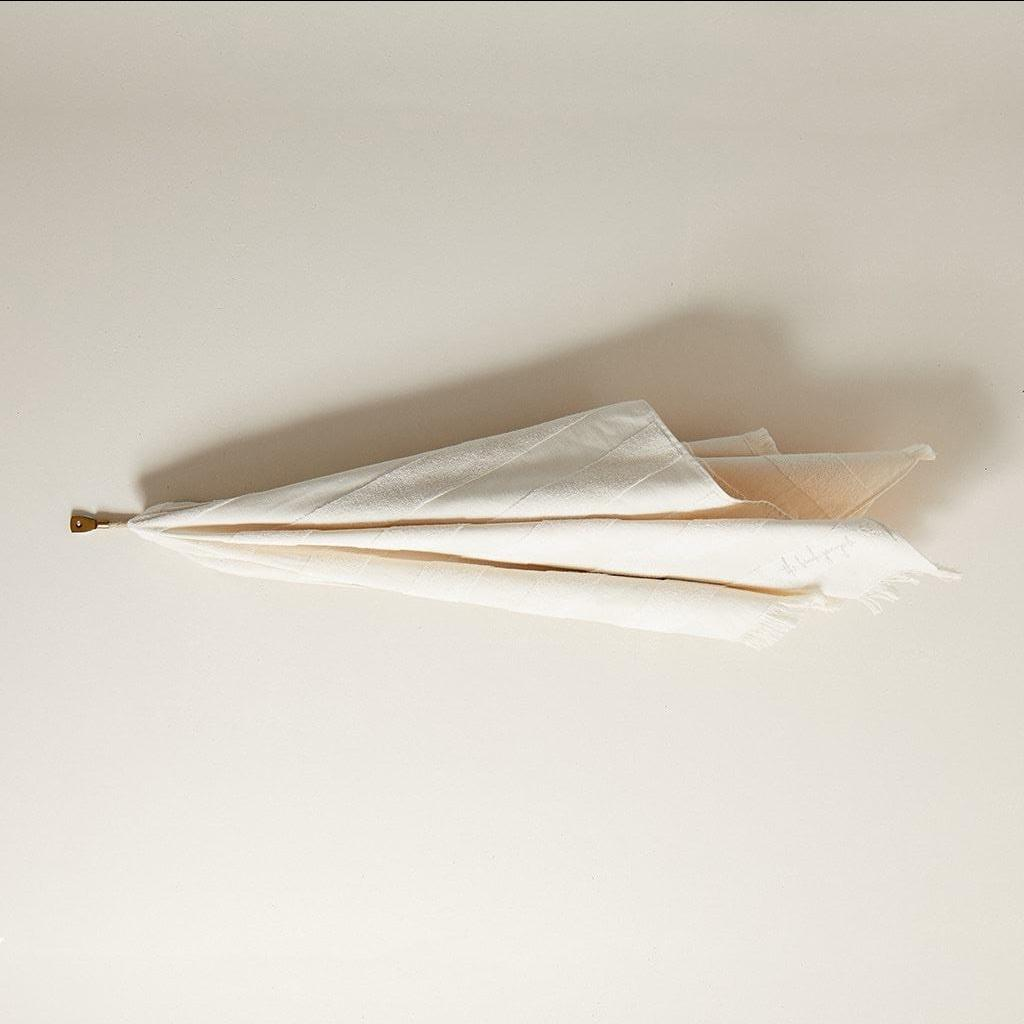Towel: (25, 382, 1022, 710)
